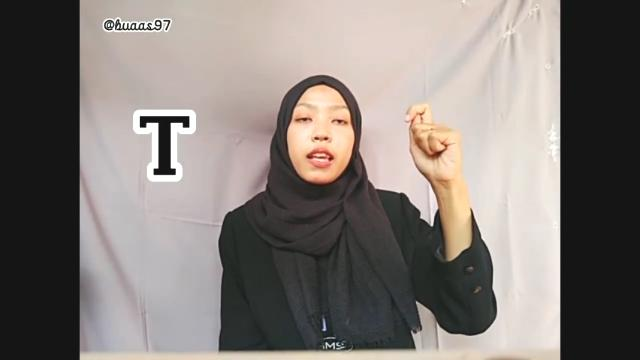T: (404, 102, 461, 186)
